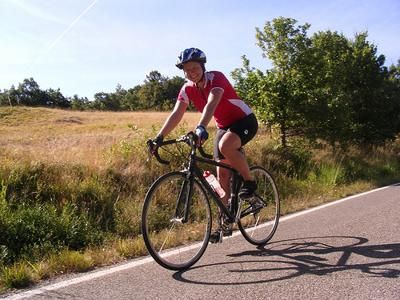person: (150, 48, 259, 243)
